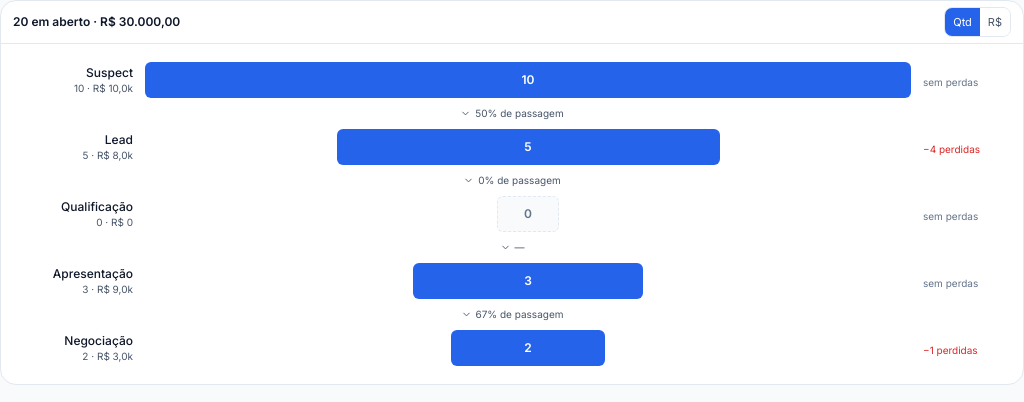
Test: FunilOportunidades — o painel da fase › clicar na faixa busca as oportunidades daquela fase, com os filtros da tela
This screenshot has width=1024, height=402.
Click the button with aria-label "Ver oportunidades em Negociação" at (512, 348), box [13,324,1011,372]
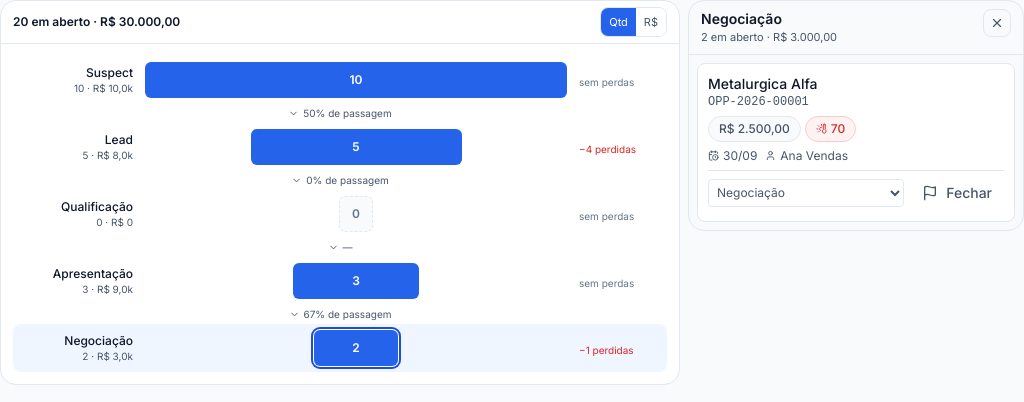
Check: the text "OPP-2026-00001" is shown, box [708,94,809,108]
